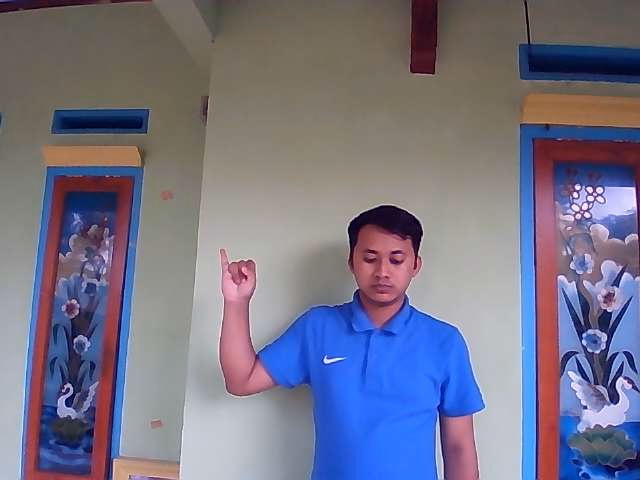I: (218, 247, 258, 301)
